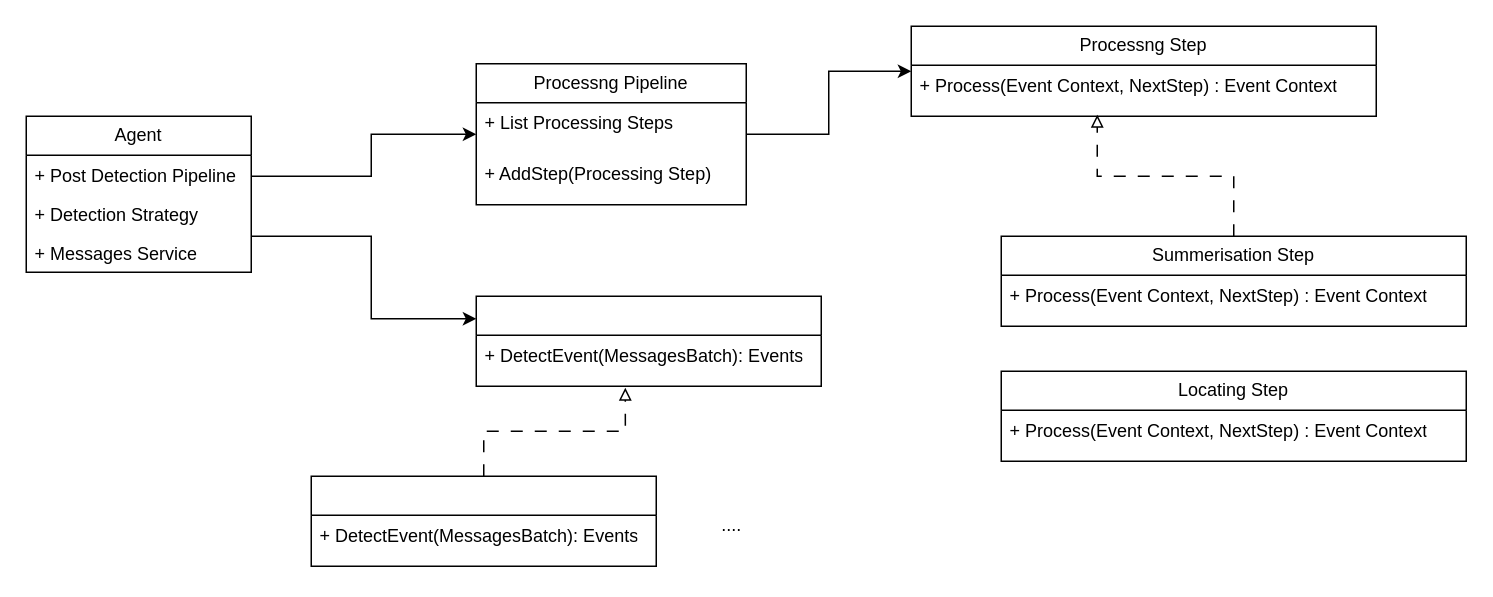
The diagram is 1493 pixels wide and 597 high, and some of its shapes have lost their labels. The shapes that lost their labels are listed below. From the top down, each one's box as (x1, y1, x2, y2) in pixels, then its label:
(475, 295, 821, 386): Detection Strategy
(310, 475, 656, 566): Simple Detection Strategy
